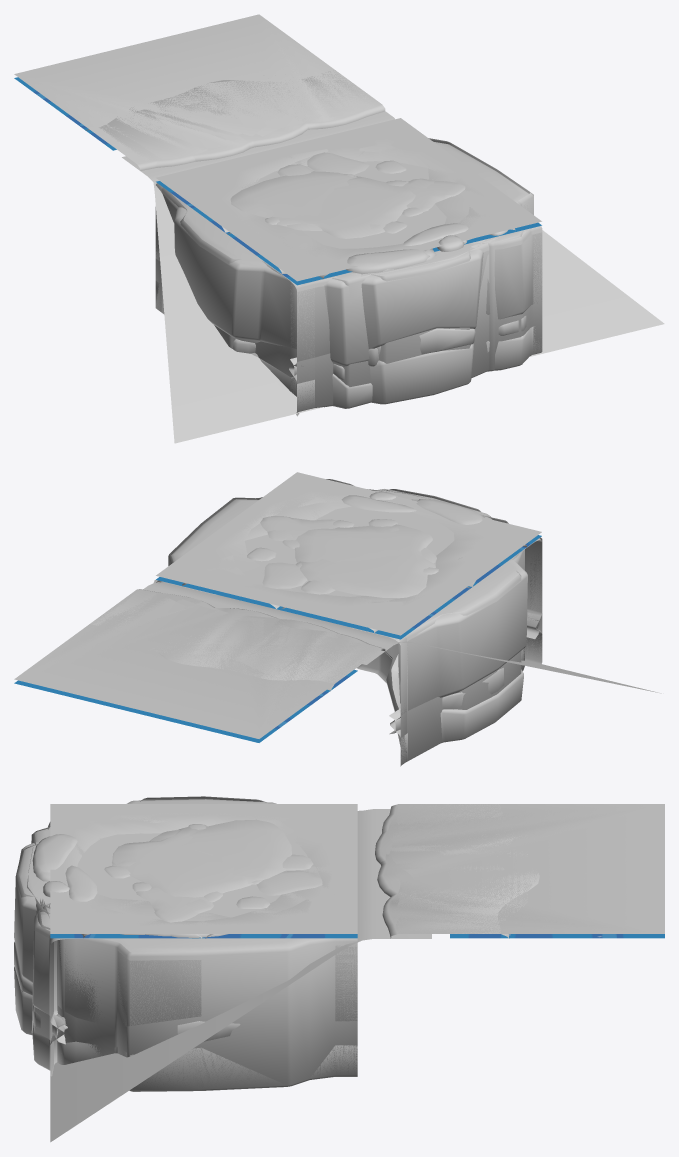
The model's file is Tileset_Ice.fbx.
3 renders of one model, top to bottom at view 1: azimuth 30°, elevation 25°; view 2: azimuth 150°, elevation 25°; view 3: azimuth 270°, elevation 25°, orthographic. The views are drawn at different scales.
Visible parts, largest first — view 1: slopeA_left, slopeA_middle, slopeA_right, corner_B2, middleE3, middle_B1, middleE2, slopeB_middle, middle_B3, middleD3, corner2_support, middleD2 (+13 smaller); view 2: slopeA_middle, slopeA_right, middleE3, corner_B2, middleE2, slopeB_middle, slopeA_left, middleD3, middleD2, corner2_support, slopeB_right, middleE1 (+9 smaller); view 3: slopeA_middle, corner1_support, slopeA_right, slopeA_left, middleE3, corner_B1, middleE2, slopeB_middle, middleD3, middleD2, middleE1, corner_B2 (+7 smaller).
Boxes of the visible parts, x1,y1,x2,y2 form: slopeA_left: [16, 14, 392, 443]; slopeA_middle: [14, 14, 541, 413]; slopeA_right: [18, 14, 664, 412]; corner_B2: [162, 152, 542, 396]; middleE3: [156, 118, 541, 285]; middle_B1: [290, 240, 541, 410]; middleE2: [157, 118, 540, 280]; slopeB_middle: [14, 72, 390, 170]; middle_B3: [281, 174, 542, 411]; middleD3: [269, 160, 415, 238]; corner2_support: [161, 187, 542, 394]; middleD2: [230, 171, 434, 233]; slopeA_middle: [14, 582, 538, 738]; slopeA_right: [15, 580, 536, 738]; middleE3: [156, 472, 541, 639]; corner_B2: [259, 499, 527, 761]; middleE2: [156, 472, 540, 634]; slopeB_middle: [14, 590, 384, 742]; slopeA_left: [16, 581, 661, 738]; middleD3: [247, 525, 435, 573]; middleD2: [267, 520, 436, 598]; corner2_support: [326, 479, 524, 760]; slopeB_right: [91, 591, 392, 691]; middleE1: [220, 472, 541, 601]; slopeA_middle: [50, 804, 664, 1077]; corner1_support: [49, 903, 357, 1090]; slopeA_right: [50, 804, 664, 1142]; slopeA_left: [60, 804, 664, 1071]; middleE3: [50, 804, 357, 938]; corner_B1: [57, 854, 357, 1091]; middleE2: [50, 804, 357, 933]; slopeB_middle: [374, 804, 664, 938]; middleD3: [112, 827, 270, 908]; middleD2: [112, 819, 291, 913]; middleE1: [50, 804, 357, 933]; corner_B2: [32, 799, 354, 1070].
Bounding box in the file's own units: 400 × 107 × 424.
